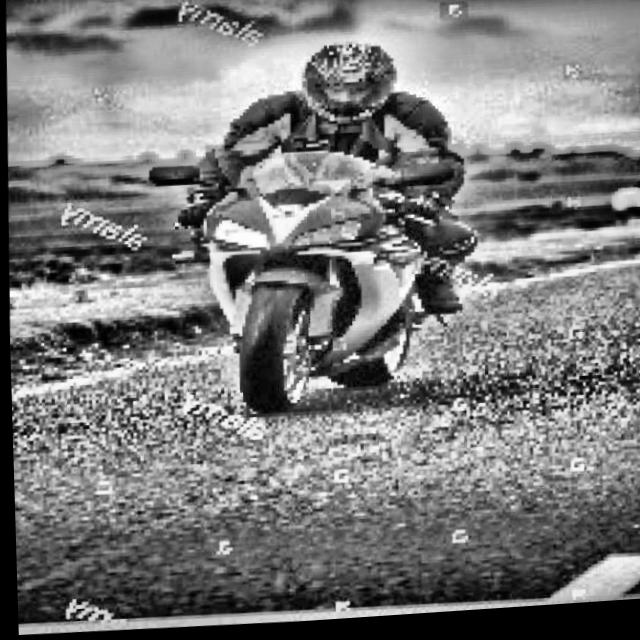motorcycle: (140, 122, 449, 422)
